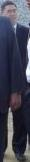boots: (0, 145, 6, 156)
hard-hat: (0, 0, 15, 10)
